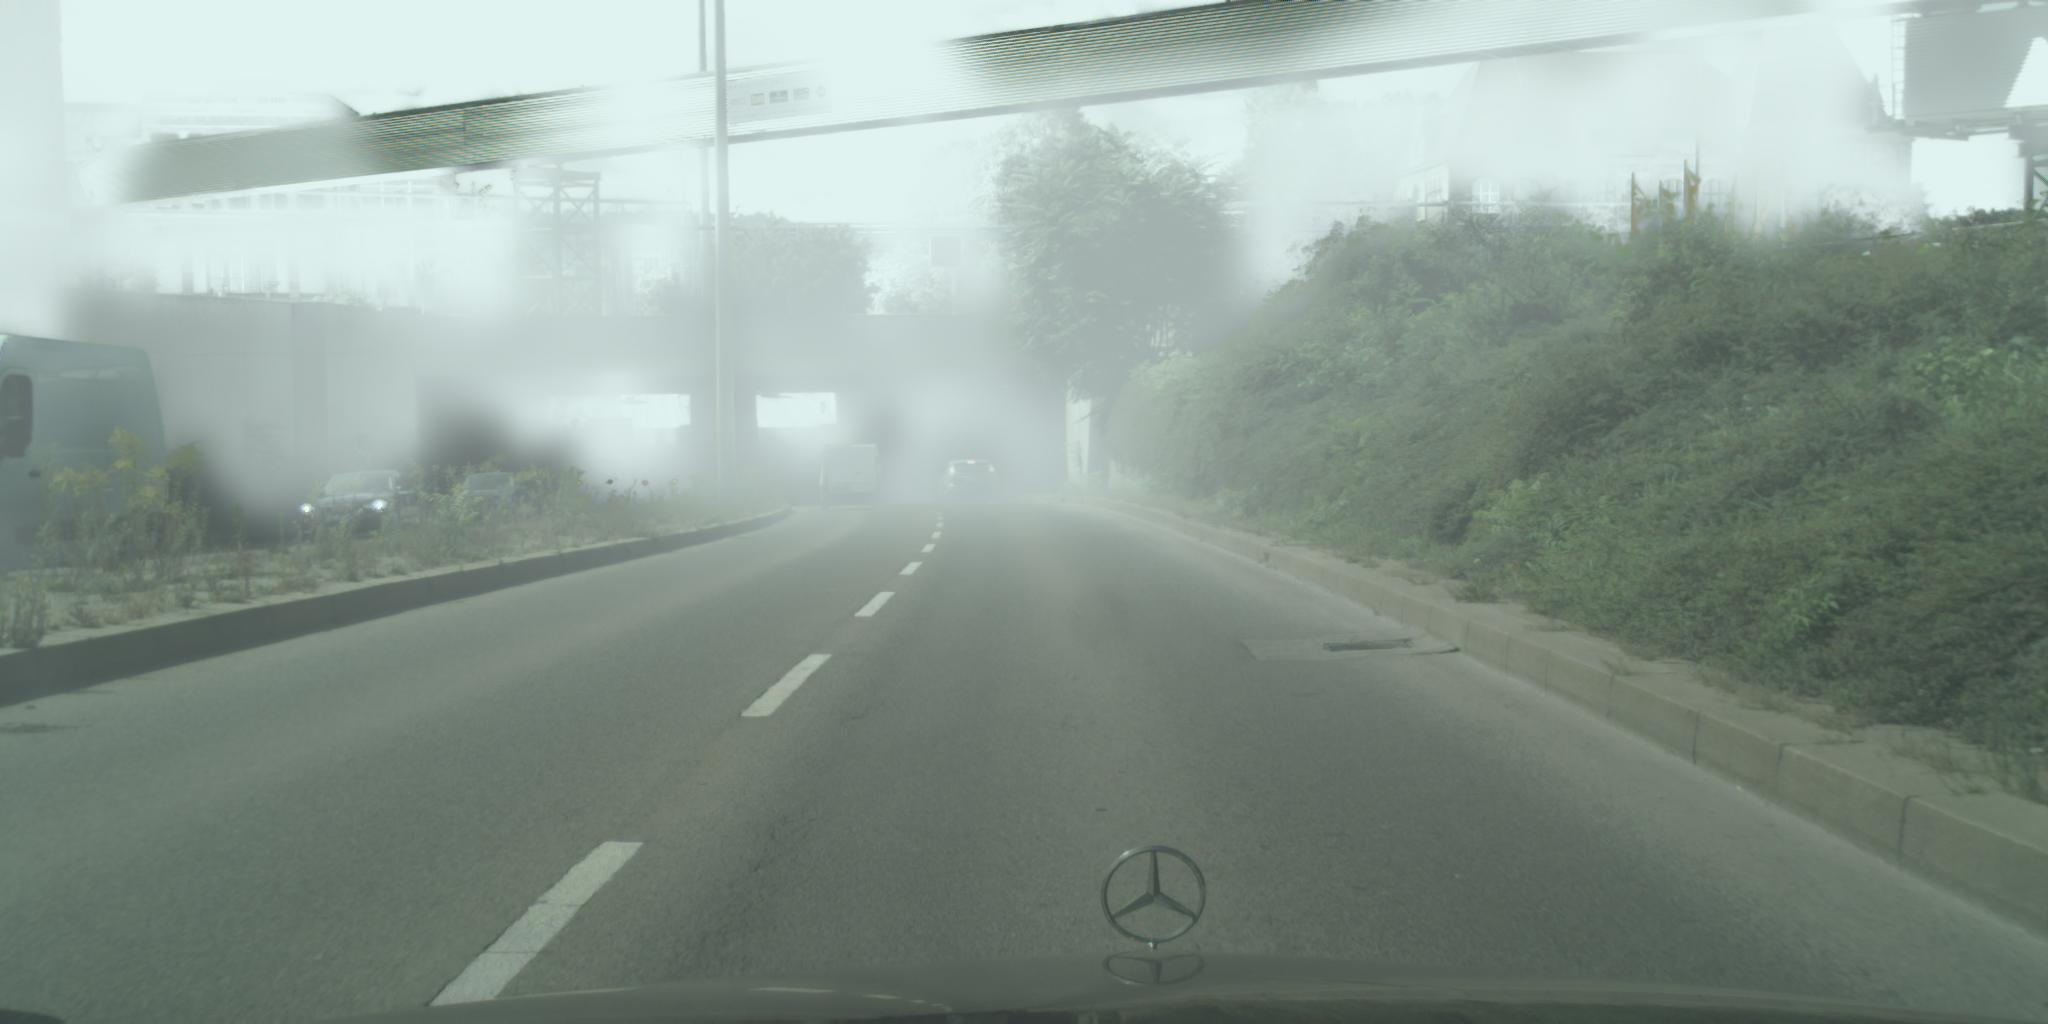car: (1, 334, 171, 575), (300, 469, 436, 543), (448, 472, 543, 526), (814, 445, 886, 512), (936, 460, 1000, 505), (571, 465, 624, 503), (640, 468, 682, 504), (903, 470, 947, 504), (869, 458, 896, 496), (652, 453, 687, 481), (620, 393, 641, 406), (761, 391, 780, 400)
truck: (583, 417, 643, 479)
